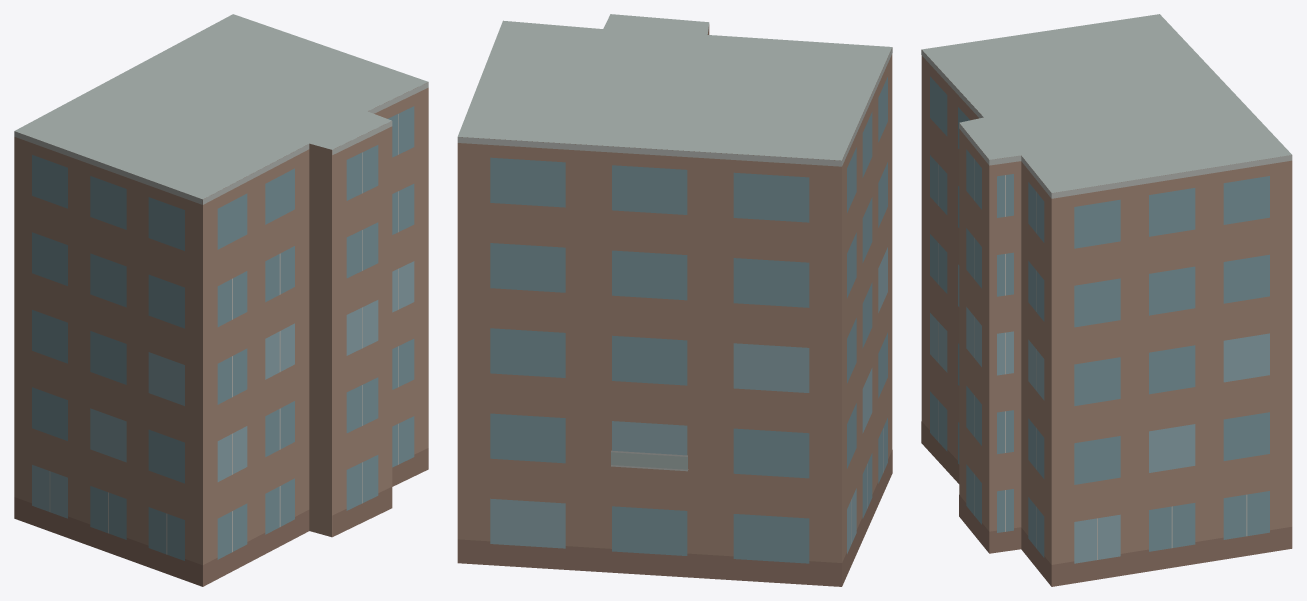
Rendered from survey-upis-32959939.glb.
3 renders of one model, left to right at view 1: azimuth 30°, elevation 25°; view 2: azimuth 150°, elevation 25°; view 3: azimuth 270°, elevation 25°, orthographic. The views are drawn at different scales.
Visible parts, largest first — view 1: survey-upis-32959939.tmp; view 2: survey-upis-32959939.tmp; view 3: survey-upis-32959939.tmp.
Boxes of the visible parts, box(x1,y1,x2,y2) form: survey-upis-32959939.tmp: box(14, 14, 428, 586); survey-upis-32959939.tmp: box(457, 14, 892, 586); survey-upis-32959939.tmp: box(921, 14, 1292, 586).
Size of the model in its own units: 16.55 by 16.95 by 14.48.
